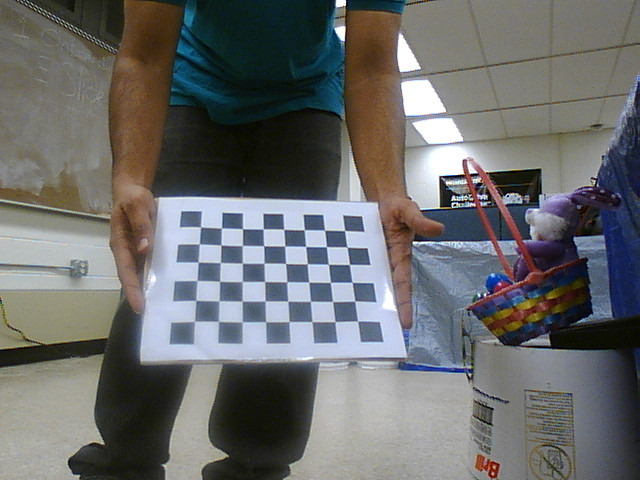bunny: (456, 155, 605, 346)
